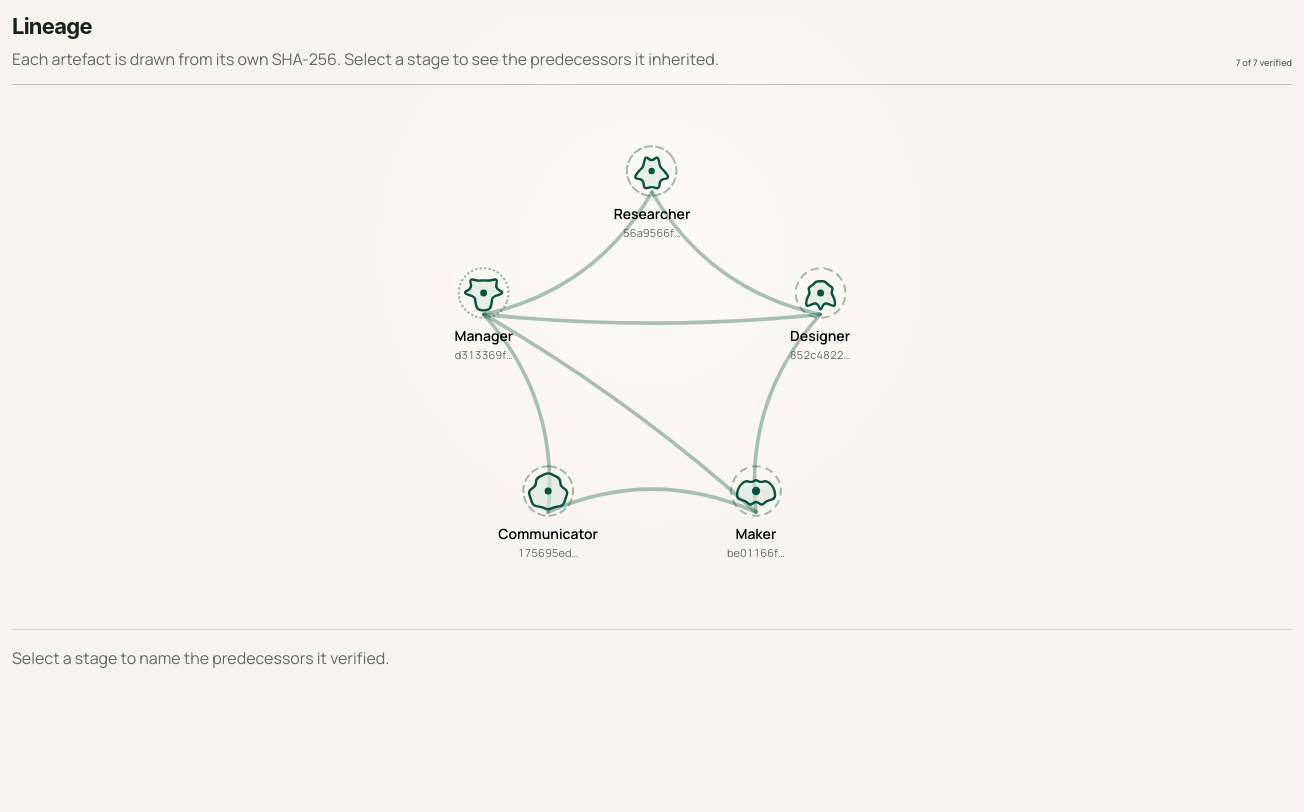
it: LineageConstellation › says the origin record inherits nothing rather than showing an empty list
The width and height of the screenshot is (1304, 812).
Click the button "Researcher 56a9566f…" at (652, 192), box [606, 136, 698, 248]
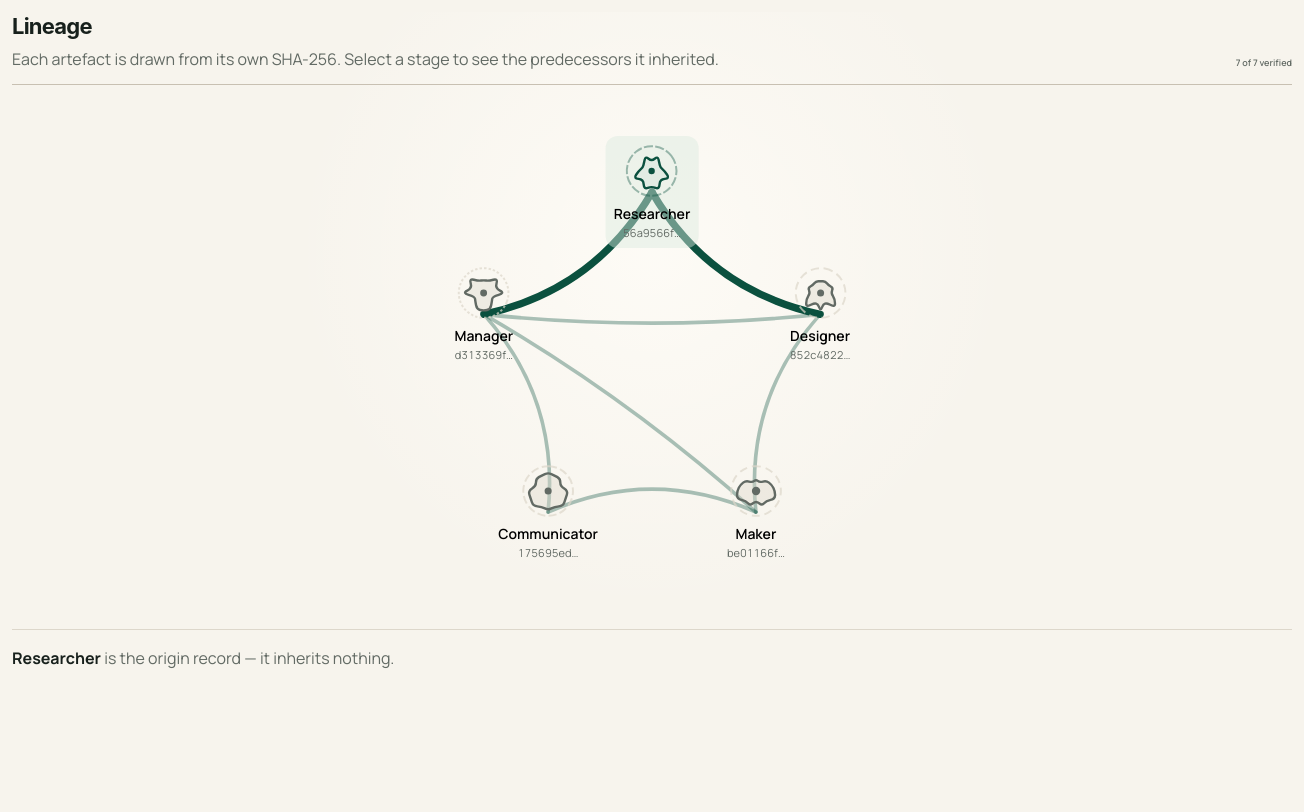
Expected: the element showing "Researcher is the origin record — it inherits nothing." is shown, [12, 629, 1292, 670]
